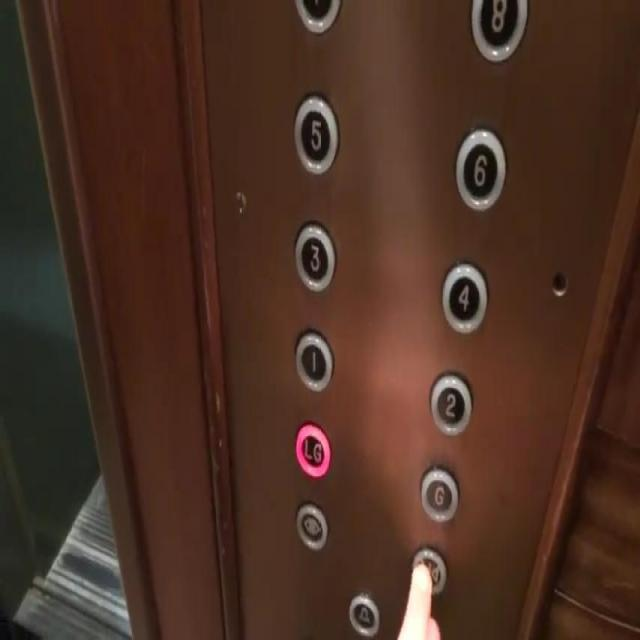1: (293, 327, 334, 393)
2: (430, 369, 472, 435)
3: (294, 220, 336, 293)
4: (439, 258, 488, 334)
5: (291, 91, 339, 173)
6: (455, 126, 505, 210)
8: (468, 0, 526, 60)
G: (419, 464, 458, 523)
LG: (293, 420, 329, 476)
alarm: (349, 593, 379, 635)
open: (296, 501, 328, 552)
